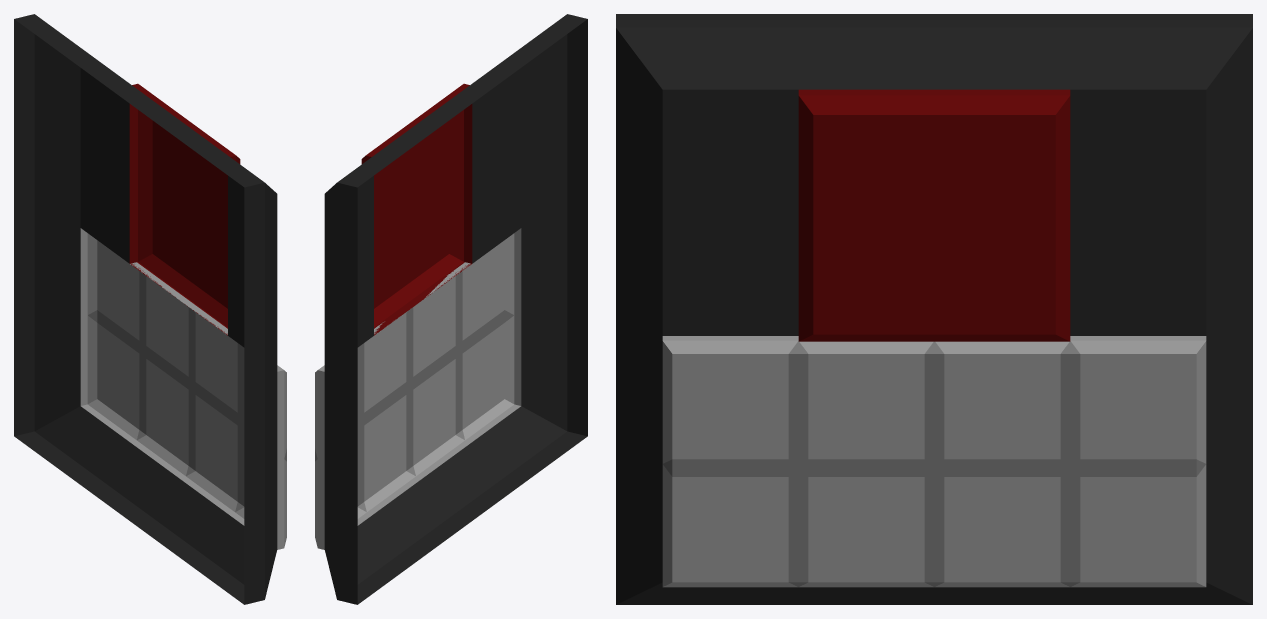
File: Keypad.fbx
3 views of the same model, side by side, from view 1: azimuth 30°, elevation 25°; view 2: azimuth 150°, elevation 25°; view 3: azimuth 270°, elevation 25° (orthographic). The views are drawn at different scales.
Parts seen in each view (by area): view 1: Keypad; view 2: Keypad; view 3: Keypad.
Boxes of the visible parts, bbox=[...] form: Keypad: bbox=[14, 14, 286, 604]; Keypad: bbox=[315, 14, 587, 604]; Keypad: bbox=[616, 14, 1252, 604].
Size of the model in its own units: 7.02 by 41.64 by 41.64.
